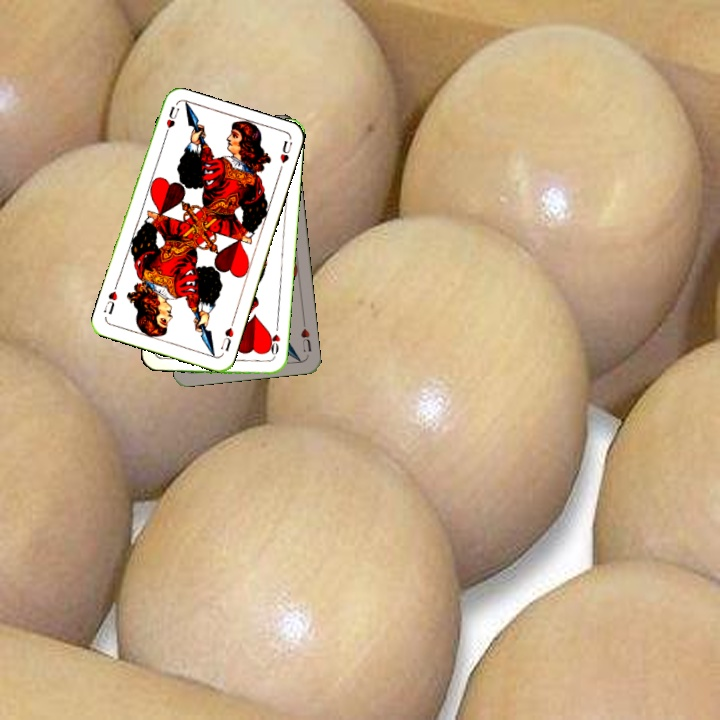HO: (264, 322, 283, 362)
HU: (160, 102, 182, 141), (216, 317, 237, 354), (297, 317, 314, 355)
